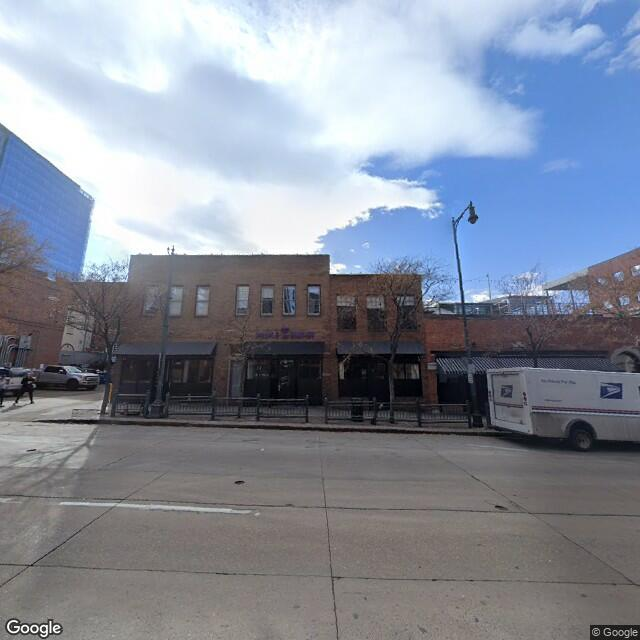lamp: (445, 199, 492, 424)
